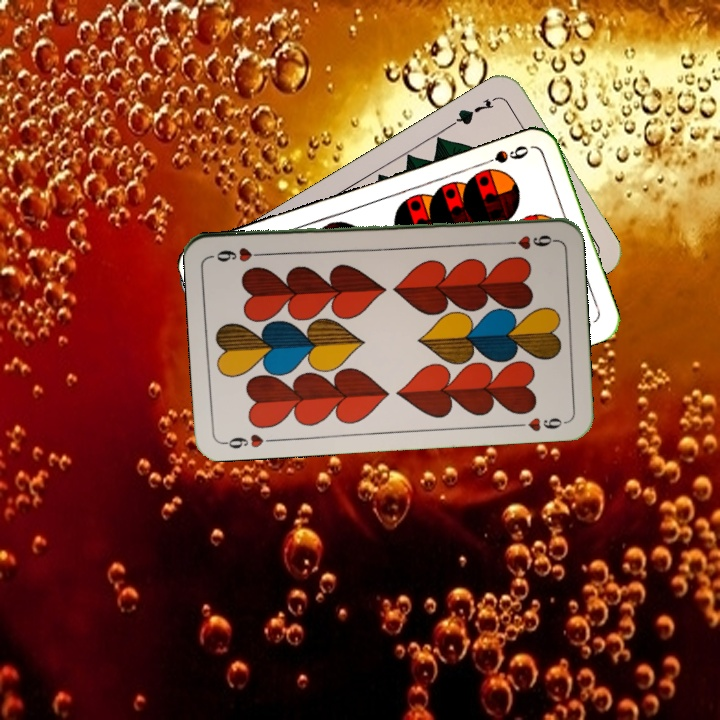G7: (448, 92, 502, 128)
H9: (219, 429, 278, 452), (498, 230, 557, 249)
S9: (475, 141, 532, 169)
